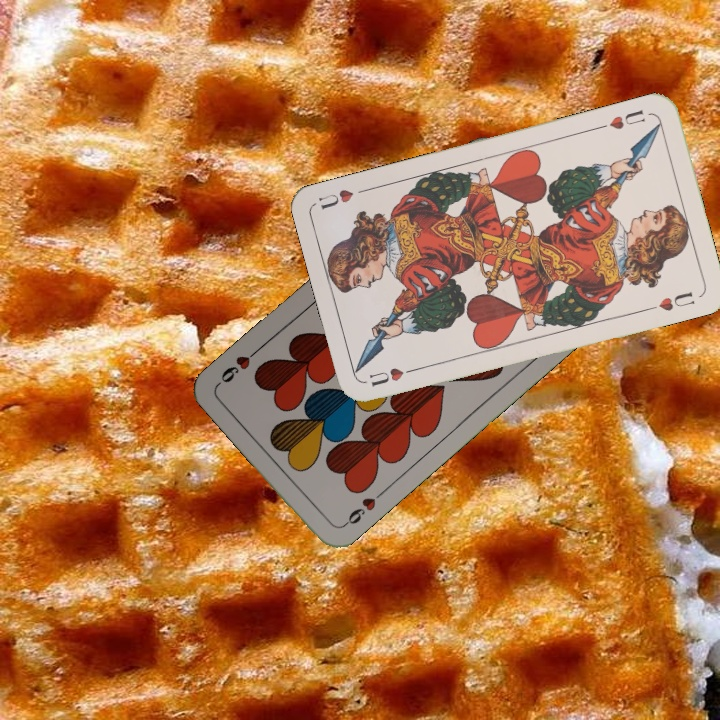H9: (338, 486, 387, 530)
HU: (365, 363, 421, 390), (594, 105, 648, 132)
